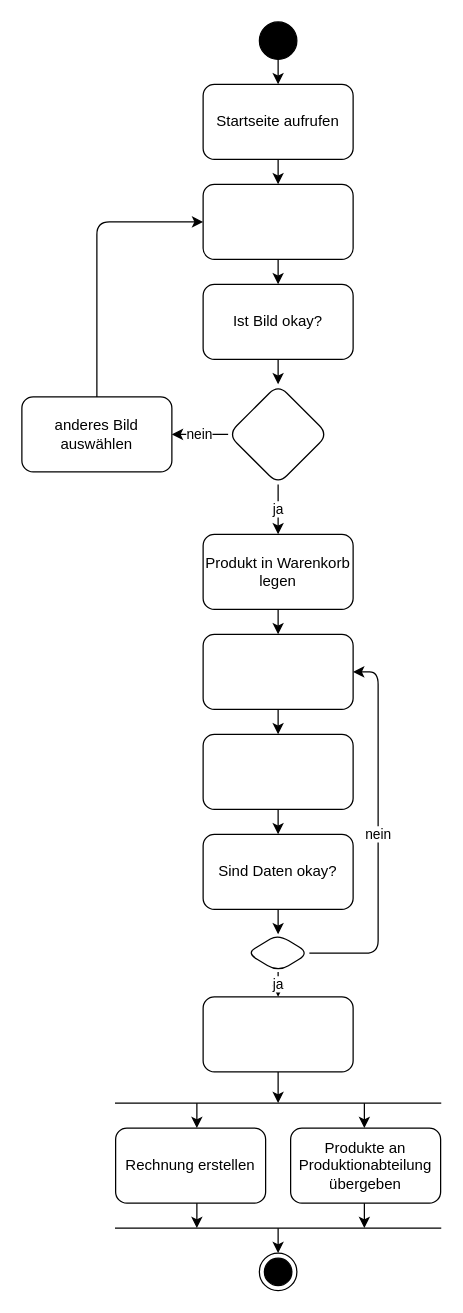
Image size: 463x1313. Some labels were removed from this diagram. The centre of each missing label's shape, as x and y in pixels:
"Bestelldaten prüfen" goes at (277,771).
"Bestellung abschicken" goes at (277,1034).
"Produkt auswählen und Bild hochladen" goes at (277,221).
"Weitere Bilder auswählen oder Bestelldaten vervollständigen" goes at (277,671).
